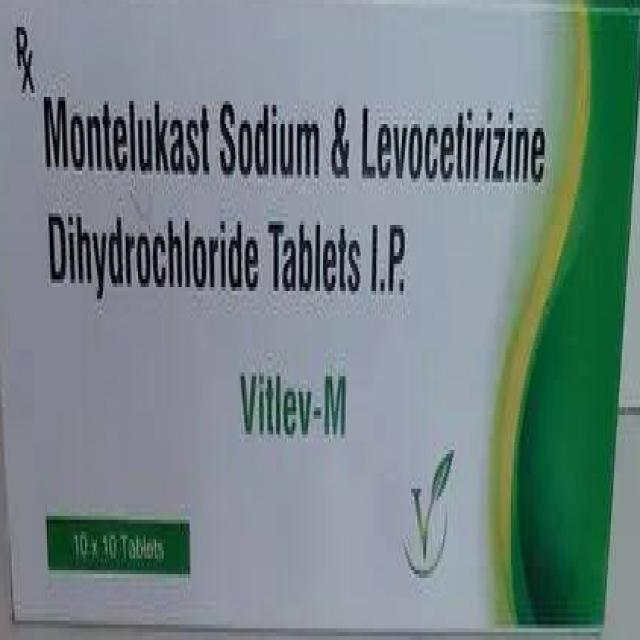drug-name: (236, 366, 352, 441)
